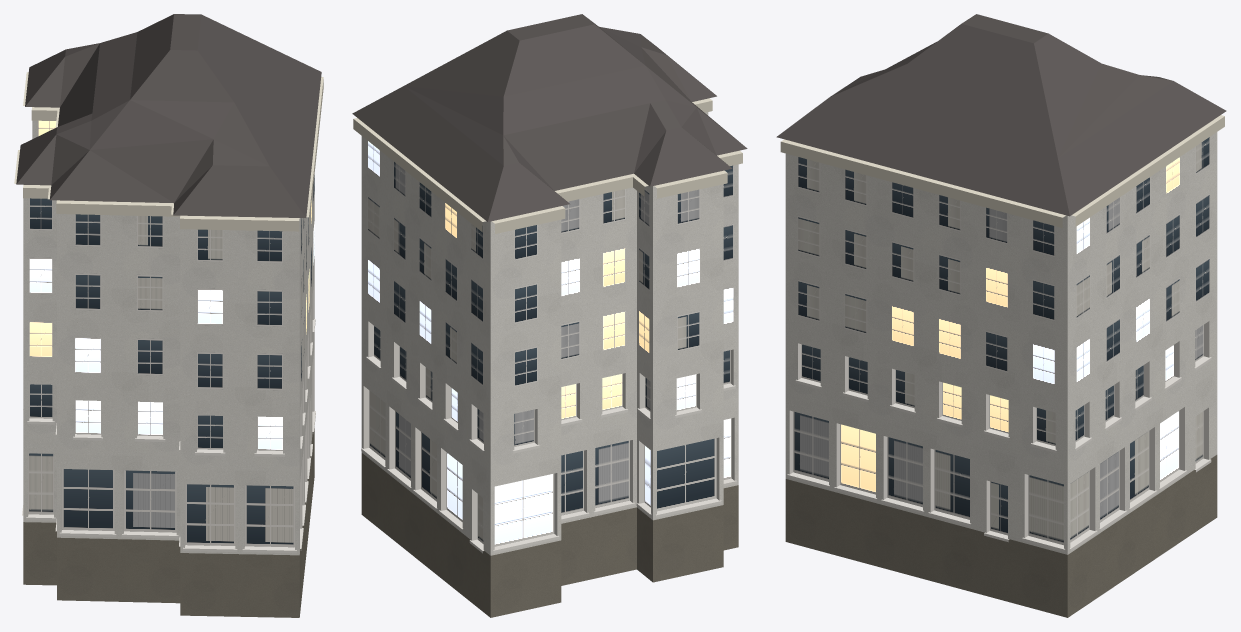
The model's file is z3c_hb_white.glb.
The picture shows the model from 3 angles, left to right: view 1: azimuth 30°, elevation 25°; view 2: azimuth 150°, elevation 25°; view 3: azimuth 270°, elevation 25°; orthographic projection.
Parts seen in each view (by area): view 1: z3c_hb_white; view 2: z3c_hb_white; view 3: z3c_hb_white.
Boxes of the visible parts, box(x1,y1,x2,y2) form: z3c_hb_white: box(14, 14, 323, 617); z3c_hb_white: box(352, 14, 747, 617); z3c_hb_white: box(776, 14, 1226, 617).
Size of the model in its own units: 17.26 by 24.29 by 19.42.
3 materials, 3 textured.
